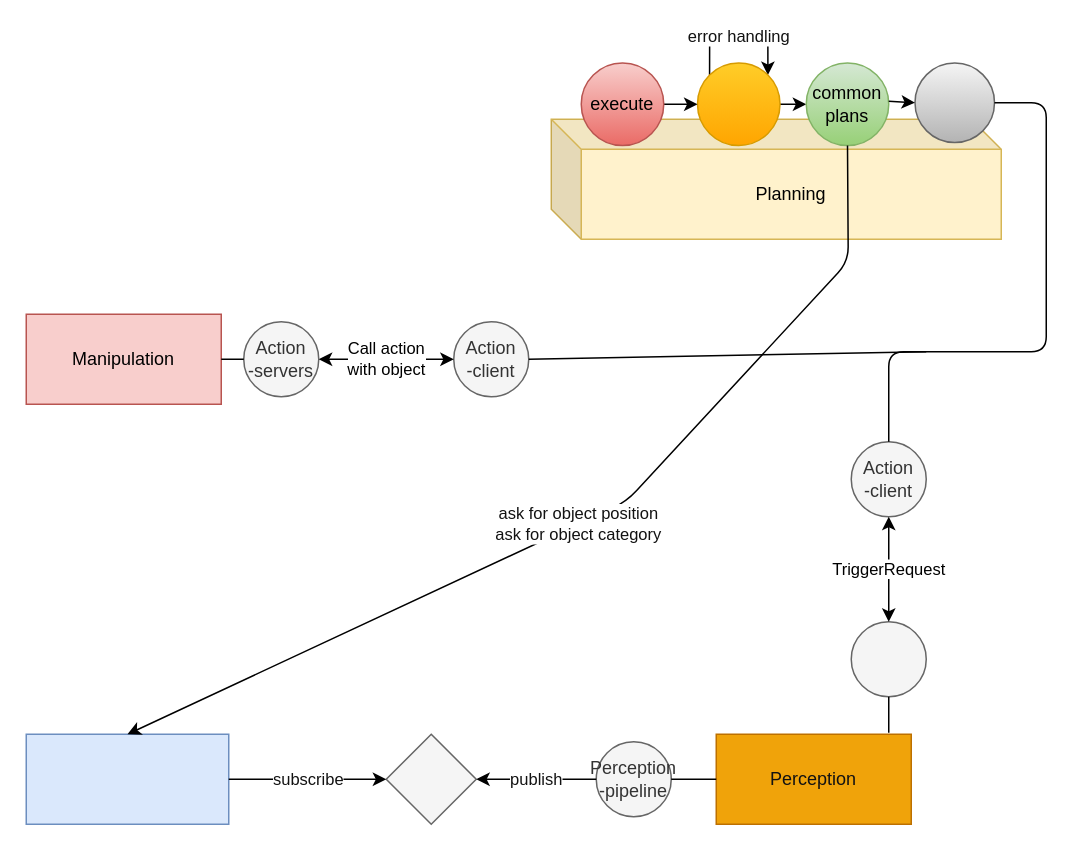
The diagram is 1074 pixels wide and 851 high, and some of its shapes have lost their labels. Each missing label, with the centre of its shape:
"Action -server" goes at (x=888, y=658).
"high level plans" goes at (x=738, y=104).
"Knowledge" goes at (x=127, y=778).
"low level interfaces" goes at (x=954, y=102).
"result_advertiser" goes at (x=430, y=778).
